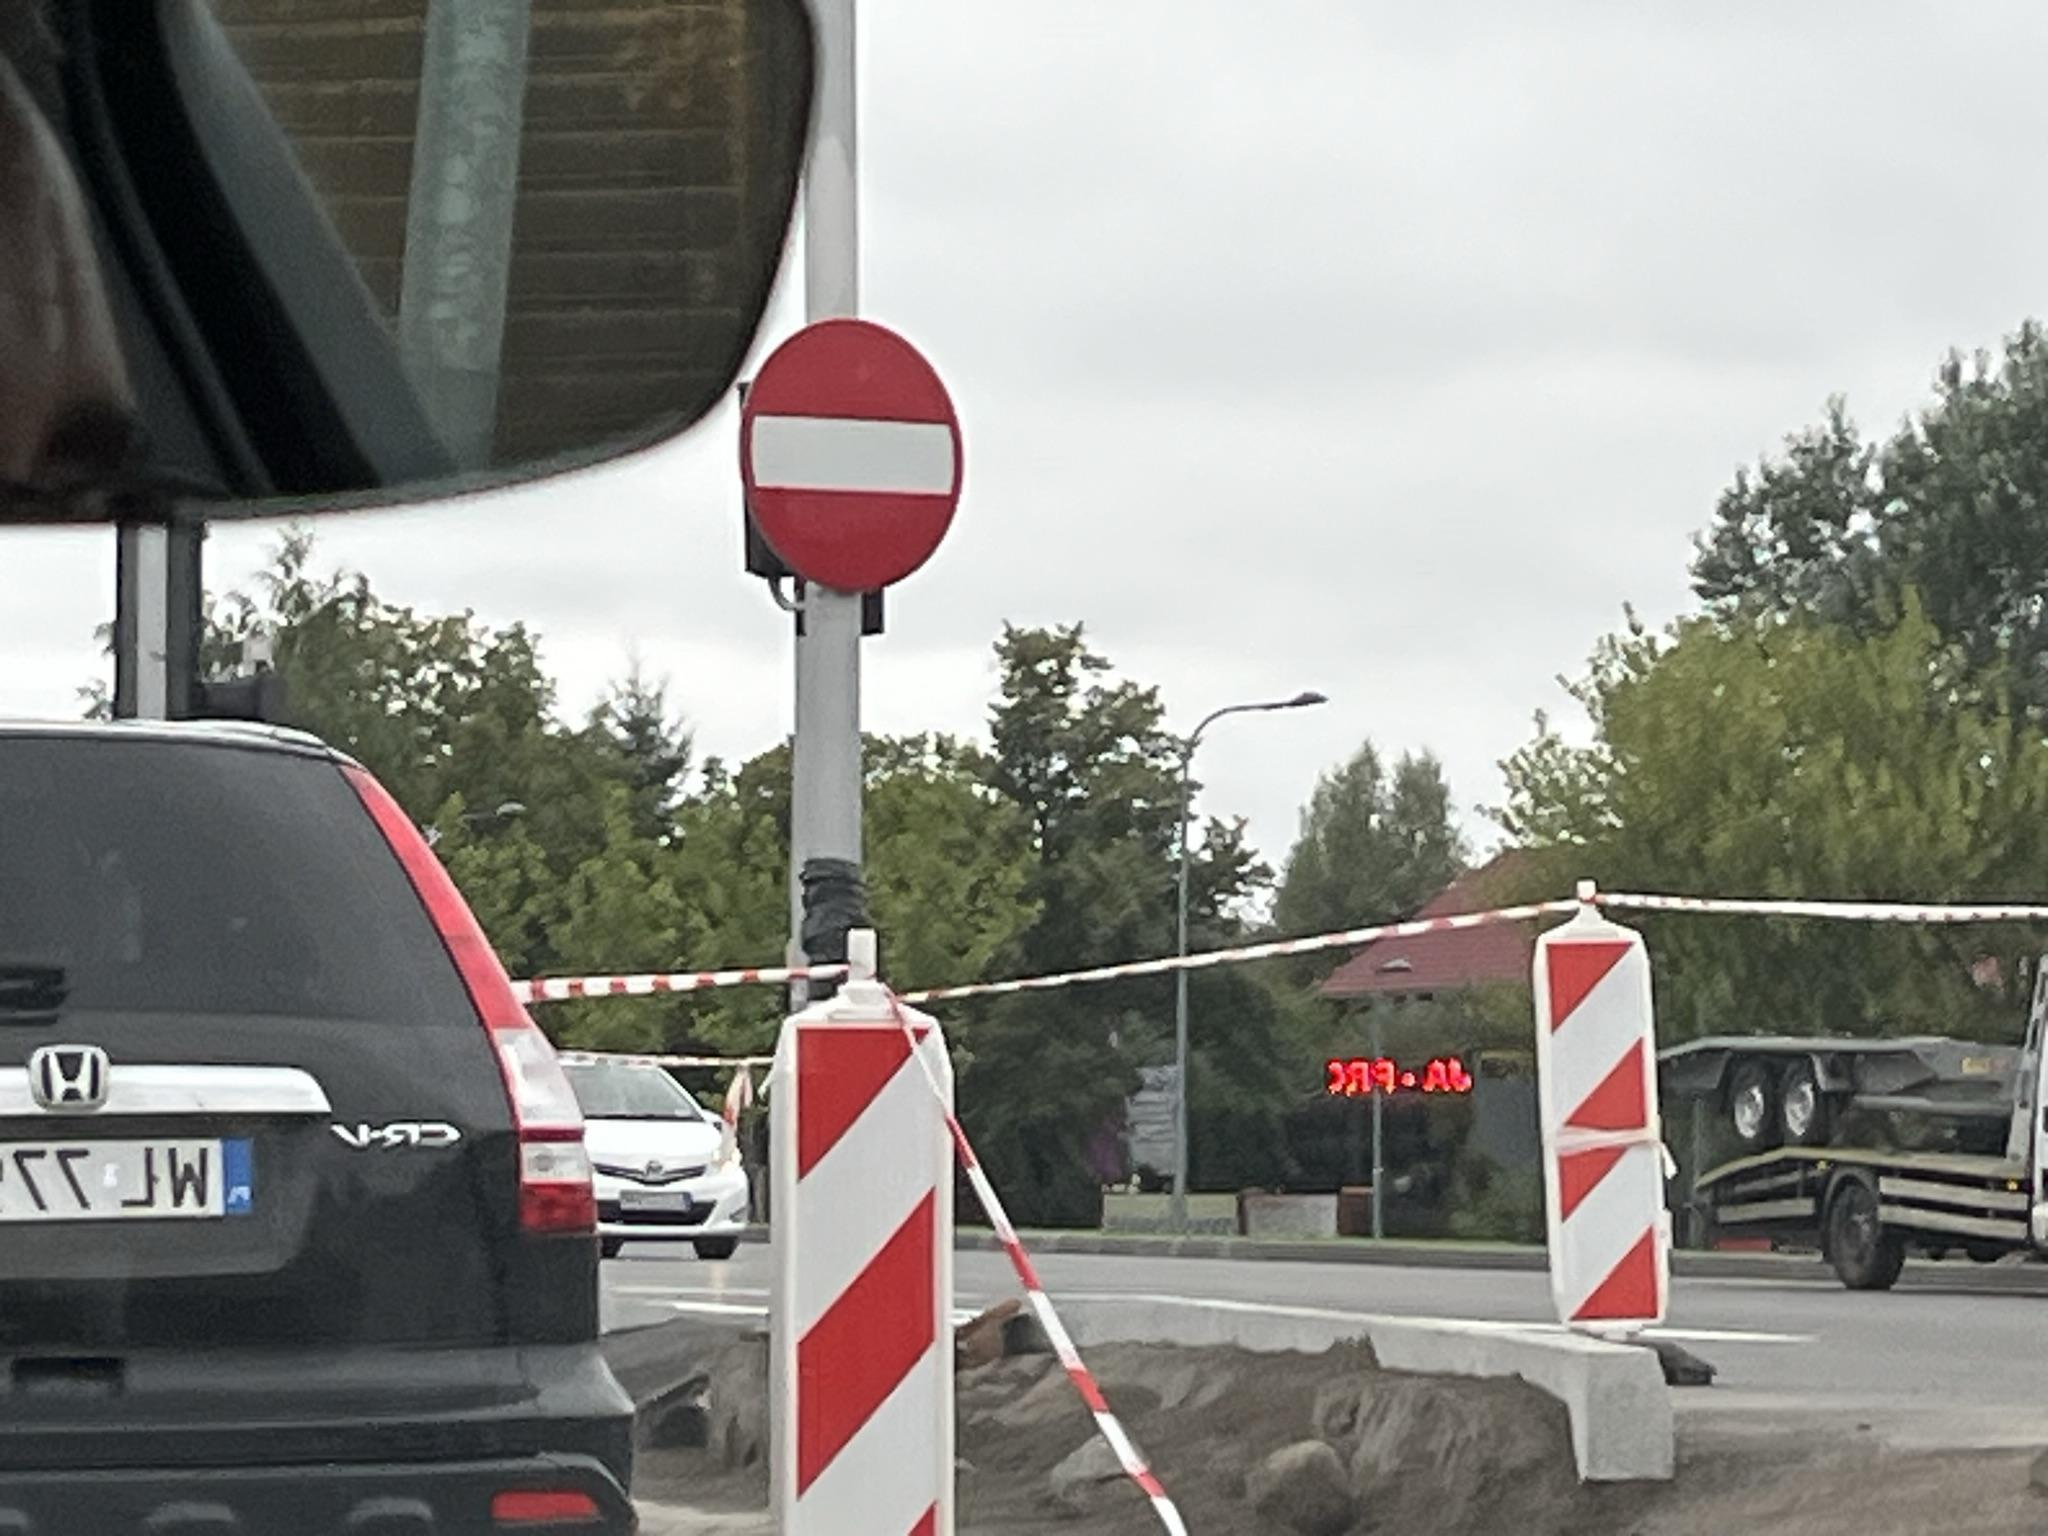prohibitory: (735, 315, 966, 594)
